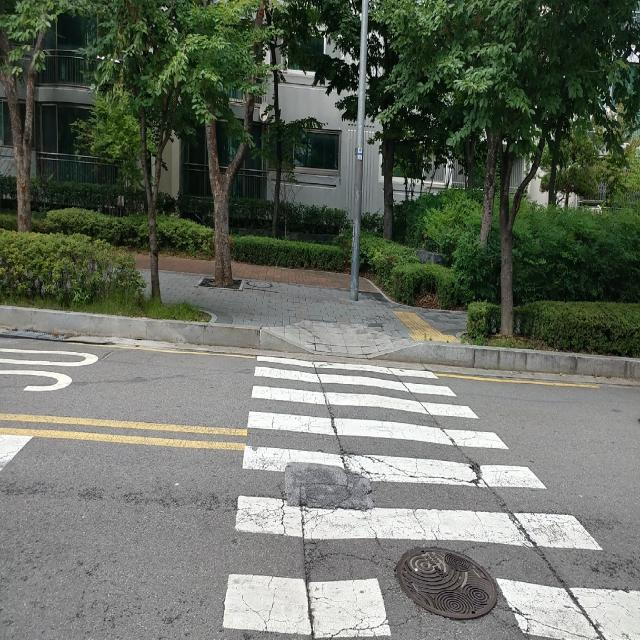횡단보도: (222, 354, 640, 640)
